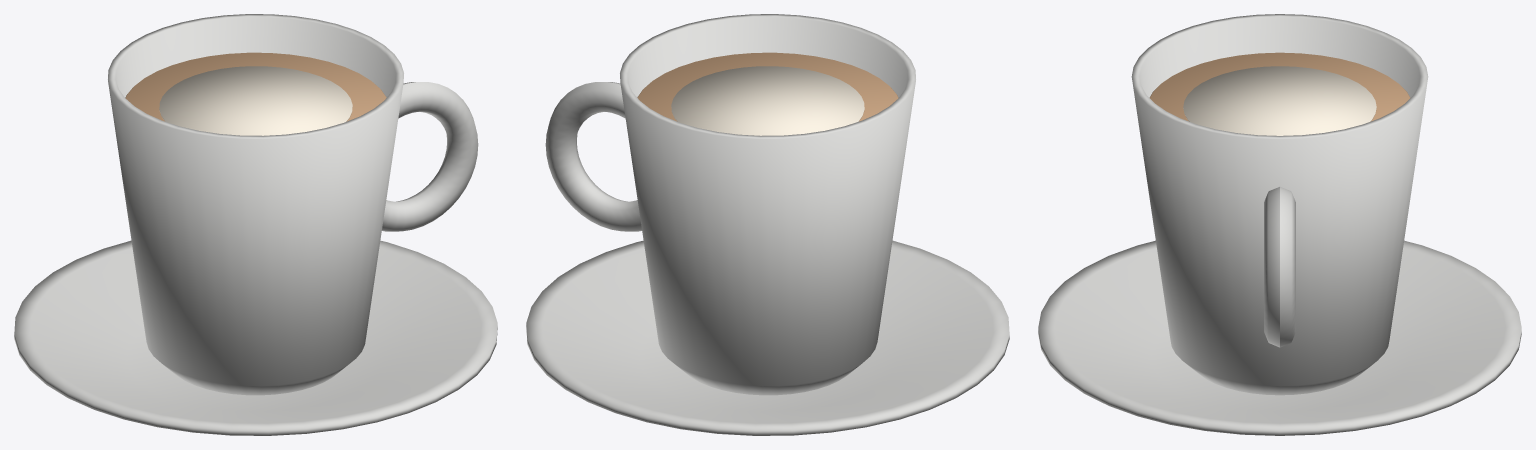
The model's file is latte.glb.
The picture shows the model from 3 angles, left to right: view 1: azimuth 30°, elevation 25°; view 2: azimuth 150°, elevation 25°; view 3: azimuth 270°, elevation 25°; orthographic projection.
Visible parts, largest first — view 1: part0, part2, part1; view 2: part0, part2, part1; view 3: part0, part2, part1.
Boxes of the visible parts, x1=… form: part0: x1=14, y1=14, x2=497, y2=435; part2: x1=159, y1=66, x2=352, y2=135; part1: x1=125, y1=52, x2=386, y2=121; part0: x1=526, y1=14, x2=1009, y2=435; part2: x1=671, y1=66, x2=864, y2=135; part1: x1=637, y1=52, x2=898, y2=121; part0: x1=1038, y1=14, x2=1521, y2=435; part2: x1=1183, y1=66, x2=1376, y2=135; part1: x1=1149, y1=52, x2=1410, y2=121.
Size of the model in its own units: 0.154 by 0.1 by 0.15.
